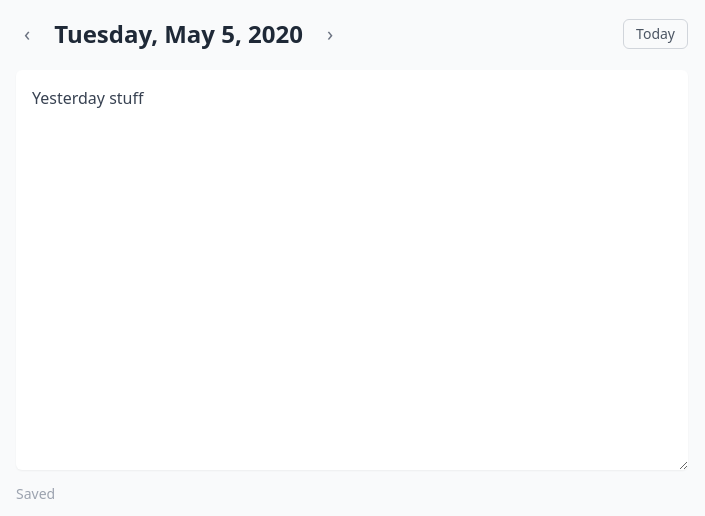
Scenario: Story 2: Navigate Between Days › unhappy paths › shows an error instead of a stale note when the next day fails to load
Click the button named "Next day" at (330, 34), box [319,16,341,52]
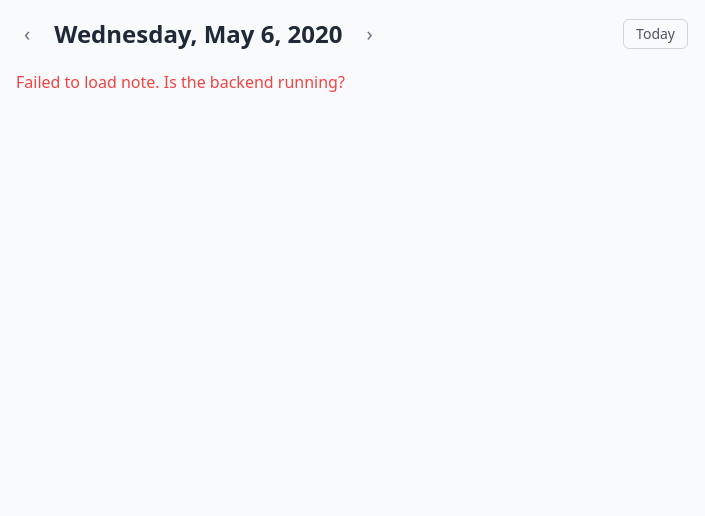
Expected: the text "Yesterday stuff" is not shown
Expected: the text "Failed to load note" is shown, [16,71,345,93]
